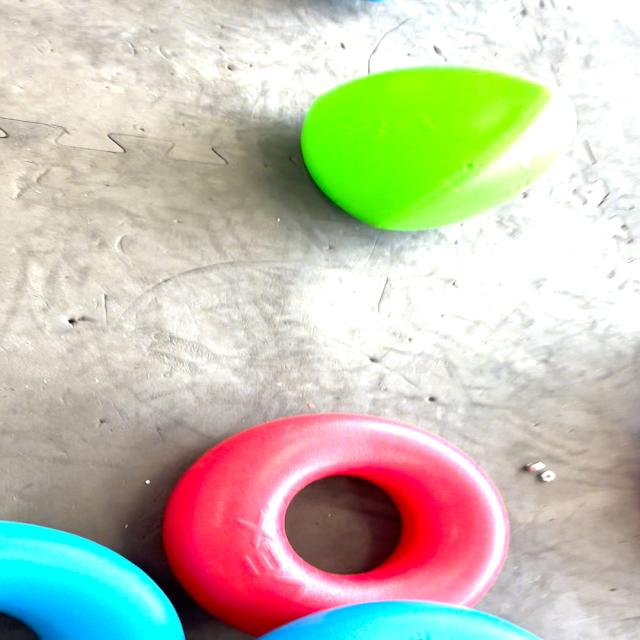Blue-Ring: (0, 522, 184, 639), (257, 601, 541, 640)
Red-Ring: (162, 412, 509, 635)
